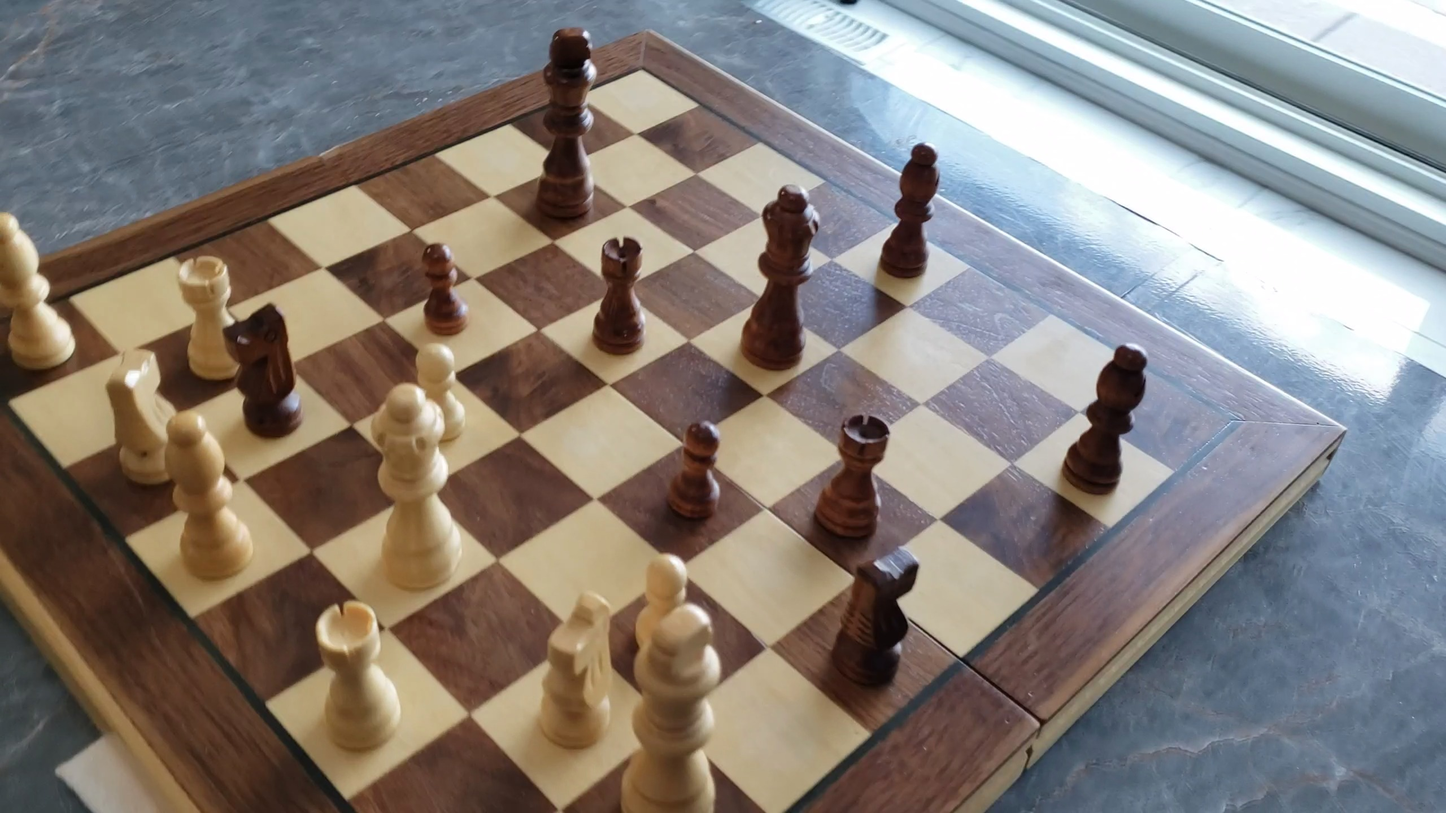black-bishop: (1059, 341, 1151, 493), (878, 138, 943, 280)
black-king: (532, 20, 602, 222)
black-knight: (828, 545, 924, 690), (221, 300, 306, 438)
black-pawn: (665, 416, 724, 523), (417, 238, 468, 336)
black-queen: (738, 181, 824, 371)
black-rook: (812, 412, 892, 539), (591, 233, 646, 356)
white-bishop: (160, 408, 260, 585), (1, 207, 78, 376)
white-king: (615, 598, 728, 812)
white-knight: (532, 588, 620, 754), (102, 346, 180, 491)
white-pawn: (410, 339, 471, 447)
white-queen: (361, 381, 458, 592)
white-rook: (310, 597, 408, 756), (171, 251, 245, 386)
